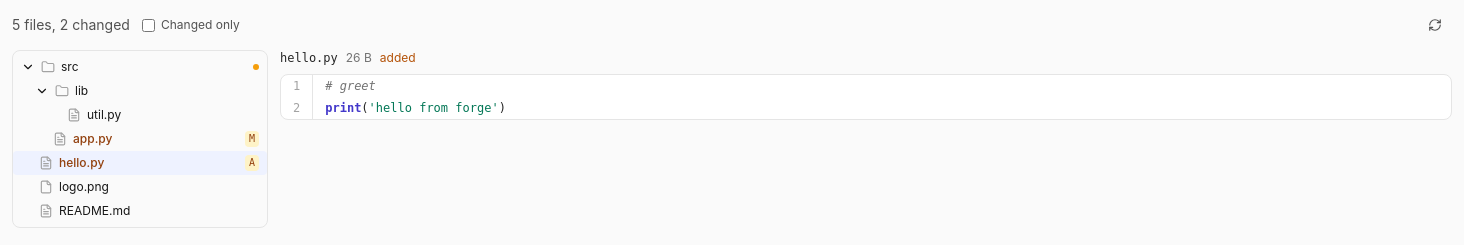
Test: FilesPanel › collapses and expands directories and opens nested files
The image size is (1464, 245).
Click the button with test id "tree-dir" showing "src". click: (140, 67)
box: [13,55,267,79]
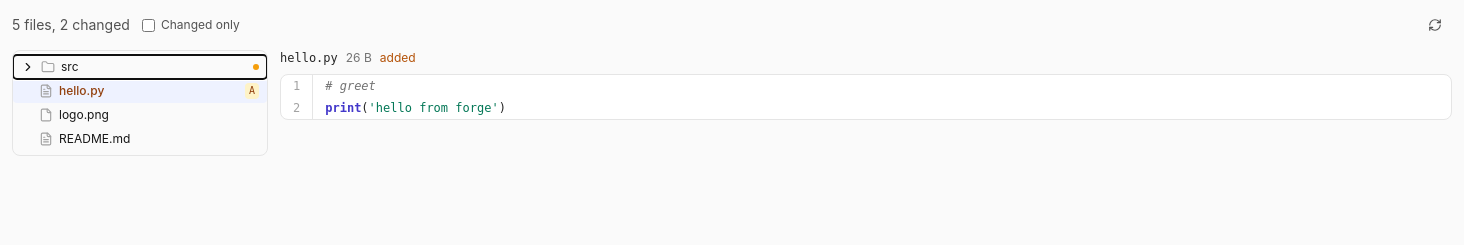
Now the list item "src" is collapsed
Now the button "app.py" is gone
Click the button with test id "tree-dir". click: (140, 67)
box: [13,55,267,79]
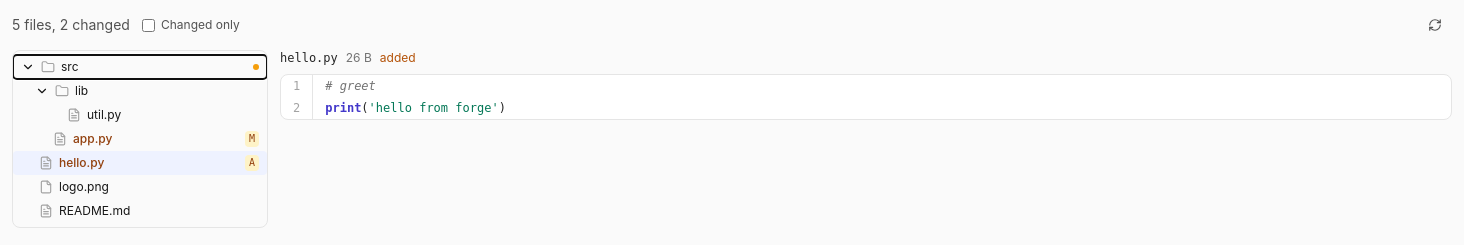
Click the text "app.py". click: (93, 139)
box: [73,131,112,147]
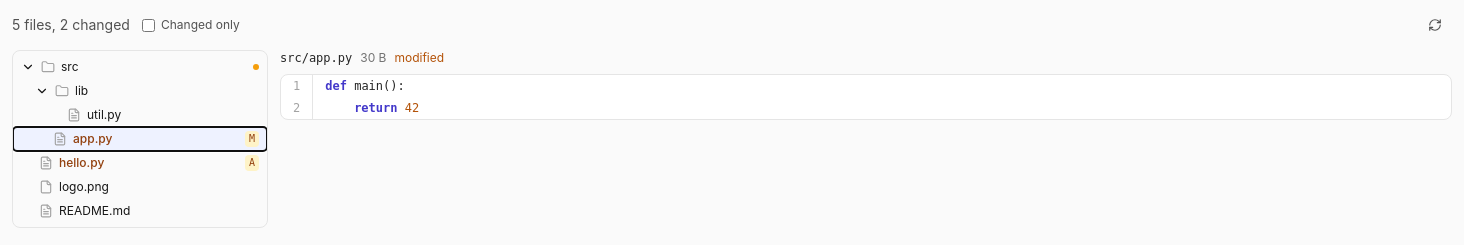
Now the text "def" is shown, box [325,79,347,93]
